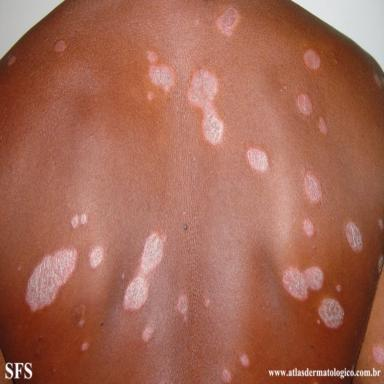Psoriasis: (123, 232, 167, 310), (25, 248, 77, 311), (187, 69, 223, 144), (283, 266, 323, 300), (149, 65, 174, 92), (319, 300, 343, 328), (216, 7, 239, 36), (305, 171, 322, 204), (247, 148, 269, 173), (346, 222, 363, 252), (297, 93, 312, 116), (89, 246, 104, 269), (304, 50, 320, 69), (73, 305, 86, 328), (177, 293, 188, 317), (141, 324, 155, 342), (372, 345, 384, 365), (303, 218, 315, 237), (239, 353, 251, 368), (319, 116, 328, 135), (221, 369, 232, 384), (54, 40, 66, 53), (373, 73, 383, 88), (147, 51, 157, 63), (378, 254, 384, 274), (71, 214, 79, 229), (7, 56, 17, 66), (203, 298, 211, 309), (80, 213, 87, 225), (378, 218, 384, 231), (81, 342, 89, 351), (147, 91, 154, 101), (335, 284, 342, 292)
